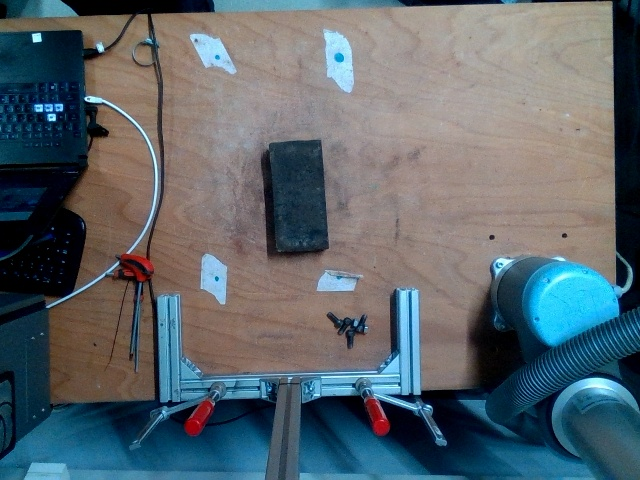brick: (269, 139, 327, 252)
